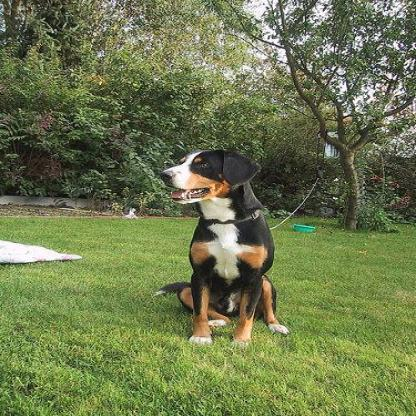EntleBucher: (157, 143, 294, 350)
